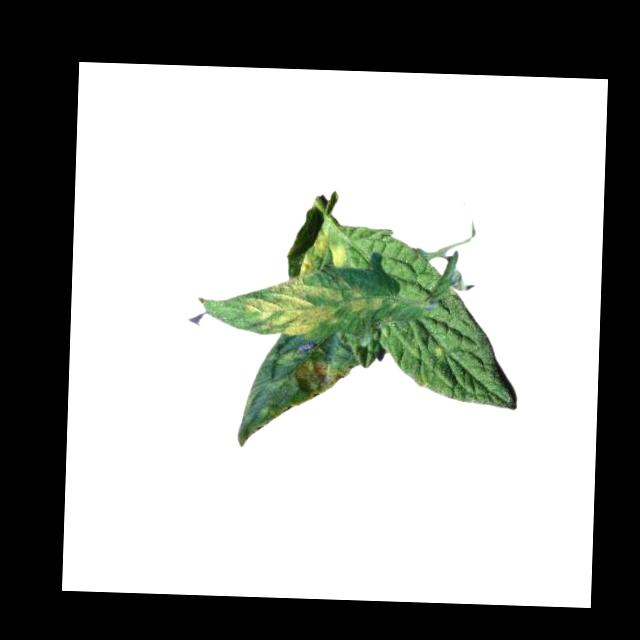Leaf_Mold: (244, 275, 385, 338), (285, 355, 352, 404), (299, 229, 345, 278)
